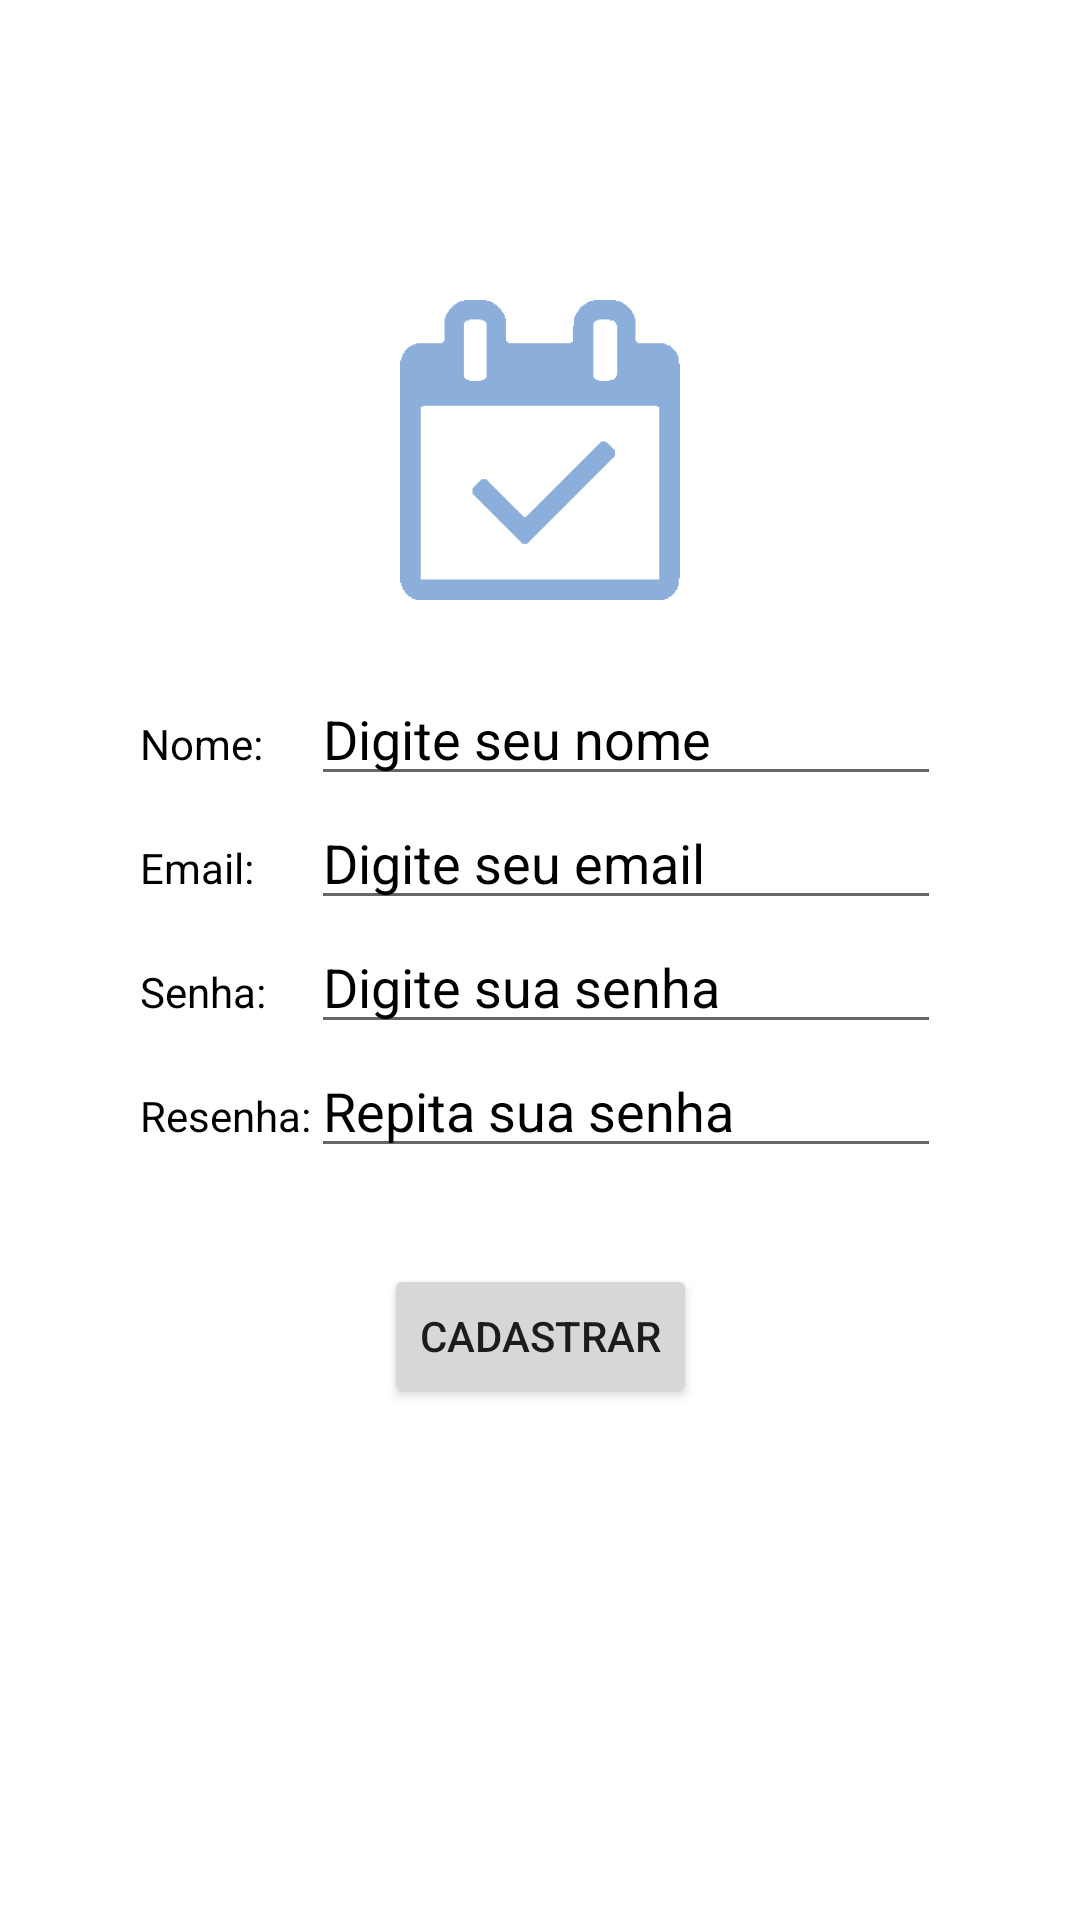

Icon click points for this 1080px x 1920px phone screenshot, format (x=x, y=y):
eventos: (x=540, y=450)
